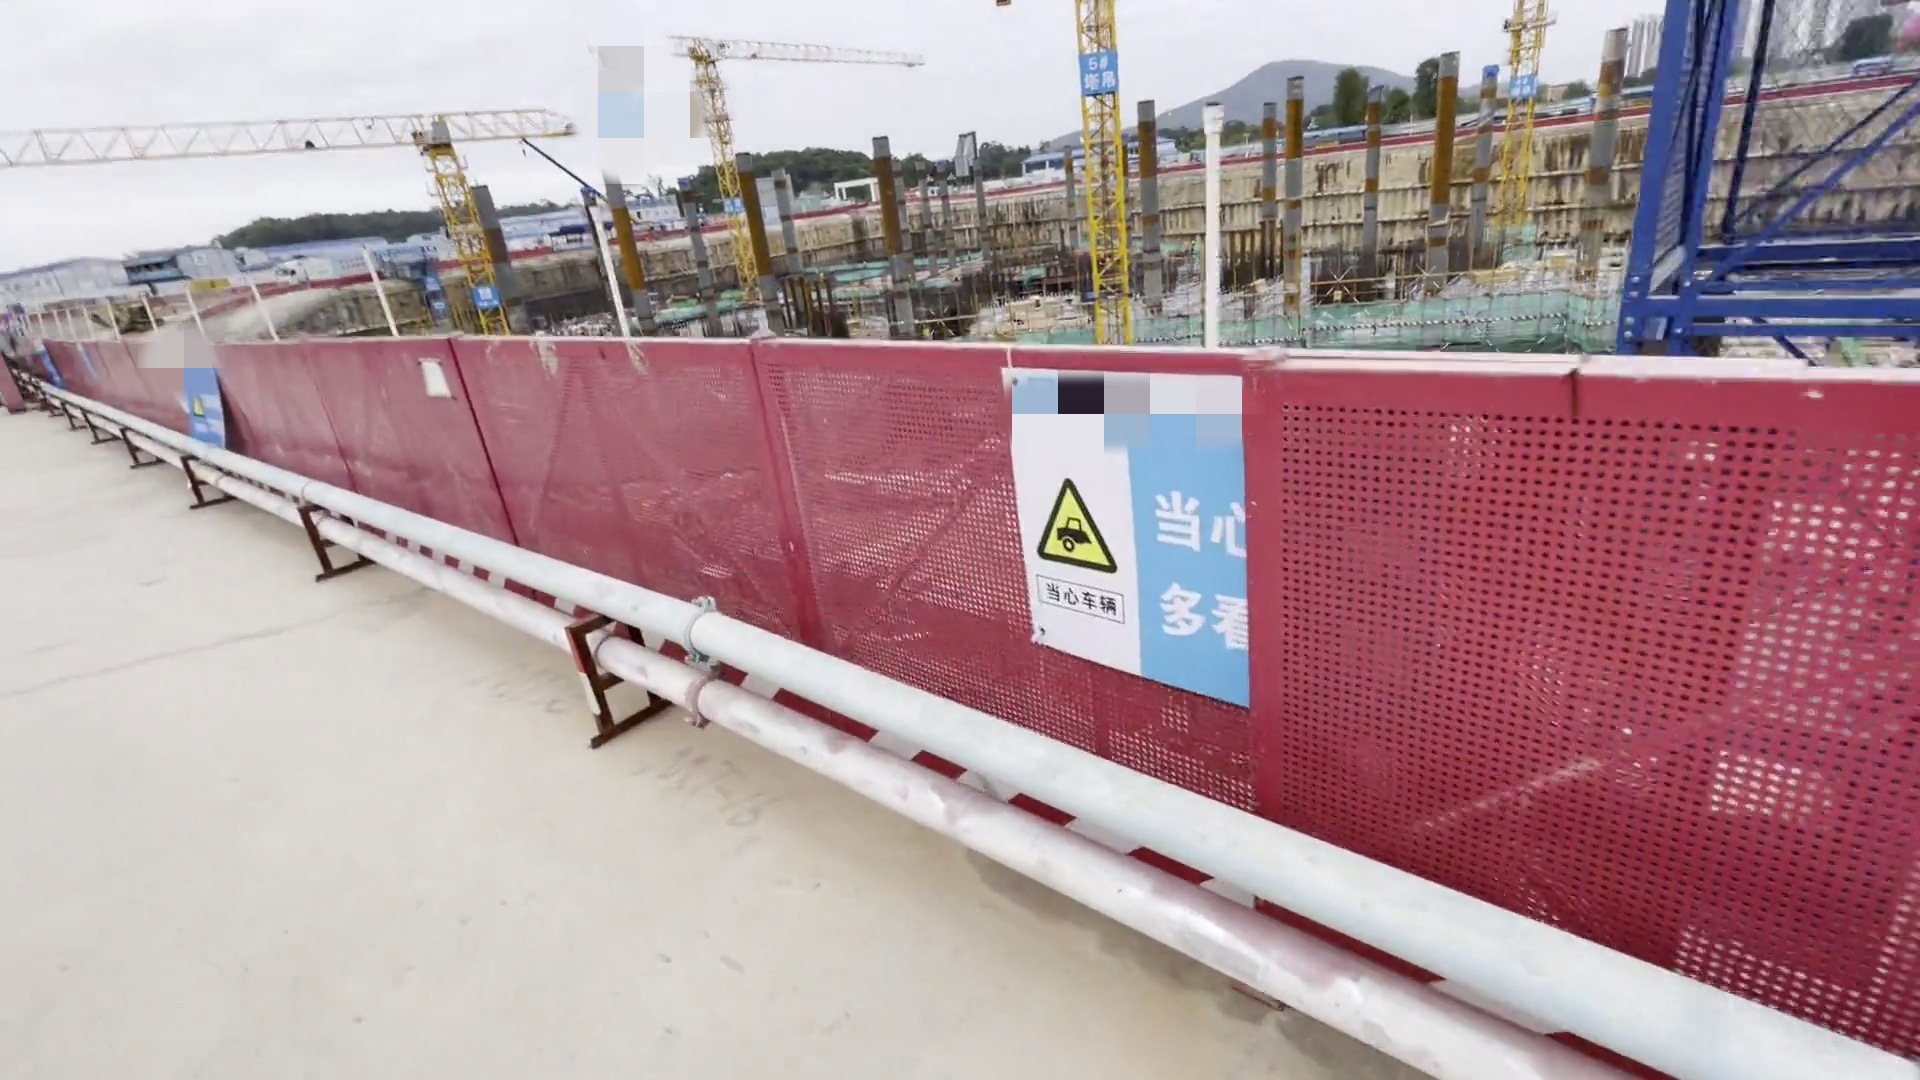slogan: (963, 349, 1280, 752), (181, 359, 231, 465), (17, 322, 82, 393), (1067, 46, 1139, 108), (406, 278, 454, 324), (468, 280, 502, 314)
